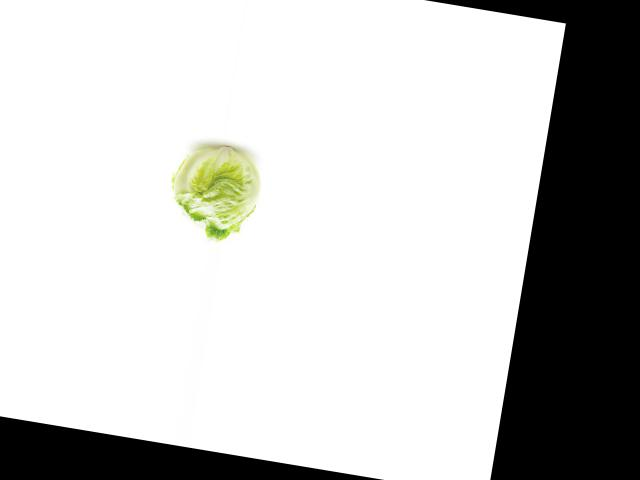lettuce: (155, 133, 270, 248)
